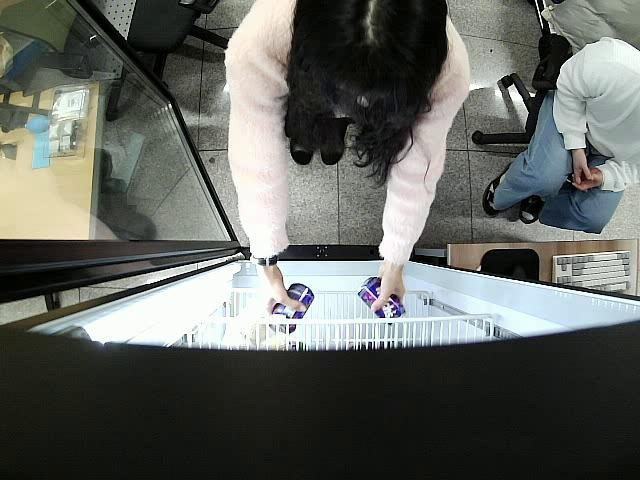14_welchsGrape: (270, 283, 314, 334), (357, 279, 404, 322)
